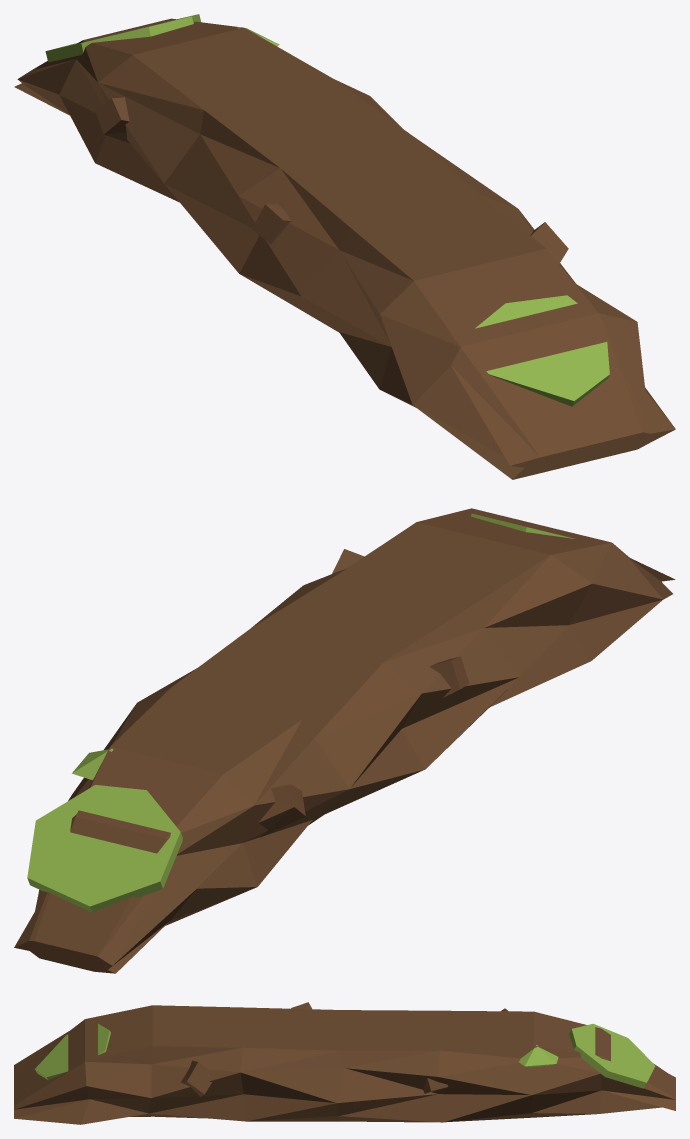
Rendered from LF_LogBridge.fbx.
3 renders of one model, top to bottom at view 1: azimuth 30°, elevation 25°; view 2: azimuth 150°, elevation 25°; view 3: azimuth 270°, elevation 25°, orthographic. The views are drawn at different scales.
Visible parts, largest first — view 1: LF_LogBridge_Bark, LF_LogBridge_Moss; view 2: LF_LogBridge_Bark, LF_LogBridge_Moss; view 3: LF_LogBridge_Bark, LF_LogBridge_Moss.
Part boxes in pixels (box(x1,y1,x2,y2)): LF_LogBridge_Bark: box(14, 18, 675, 479); LF_LogBridge_Moss: box(45, 14, 609, 406); LF_LogBridge_Bark: box(14, 508, 675, 973); LF_LogBridge_Moss: box(27, 513, 574, 912); LF_LogBridge_Bark: box(14, 1002, 675, 1124); LF_LogBridge_Moss: box(35, 1023, 655, 1088).
Bounding box in the file's own units: 5 × 2.2 × 18.
